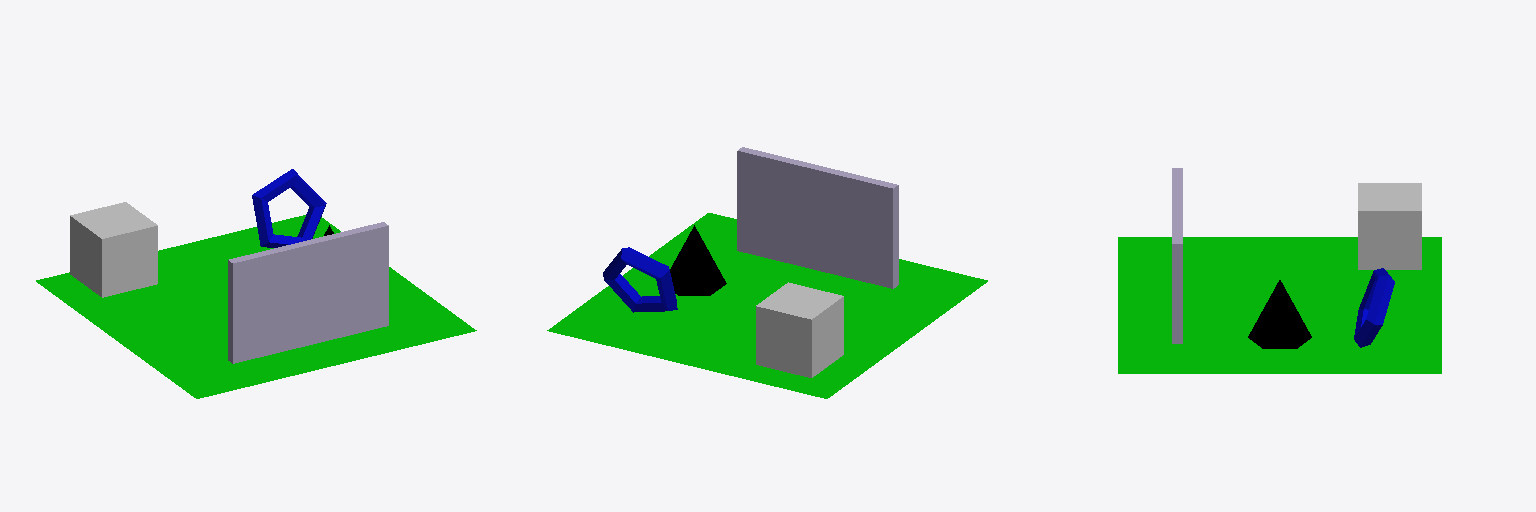
Rendered from obj_materials.obj.
3 views of the same model, side by side, from view 1: azimuth 30°, elevation 25°; view 2: azimuth 150°, elevation 25°; view 3: azimuth 270°, elevation 25° (orthographic).
Parts seen in each view (by area): view 1: Plane, Cube.002, Cube.001, Torus; view 2: Plane, Cube.002, Cube.001, Torus, Cone; view 3: Plane, Cube.001, Cone, Cube.002, Torus.
Part boxes in pixels (x1,y1,x2,y2): Plane: (36,215,476,398); Cube.002: (228,222,388,363); Cube.001: (70,202,157,297); Torus: (252,169,326,247); Plane: (547,213,987,398); Cube.002: (737,147,898,288); Cube.001: (756,282,843,377); Torus: (603,247,677,312); Cone: (670,225,726,295); Plane: (1118,237,1441,373); Cube.001: (1358,183,1421,269); Cone: (1248,280,1311,348); Cube.002: (1172,168,1182,343); Torus: (1354,268,1394,347).
Size of the model in its own units: 10 by 3.44 by 10.